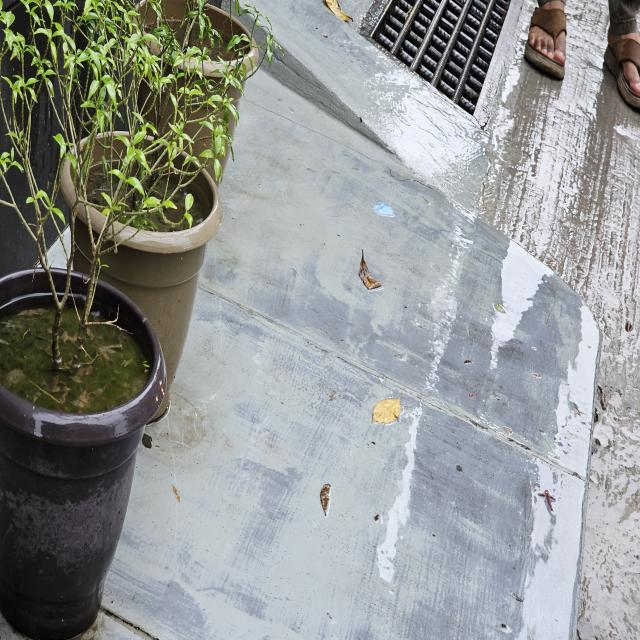artificial_container: (0, 267, 168, 640)
